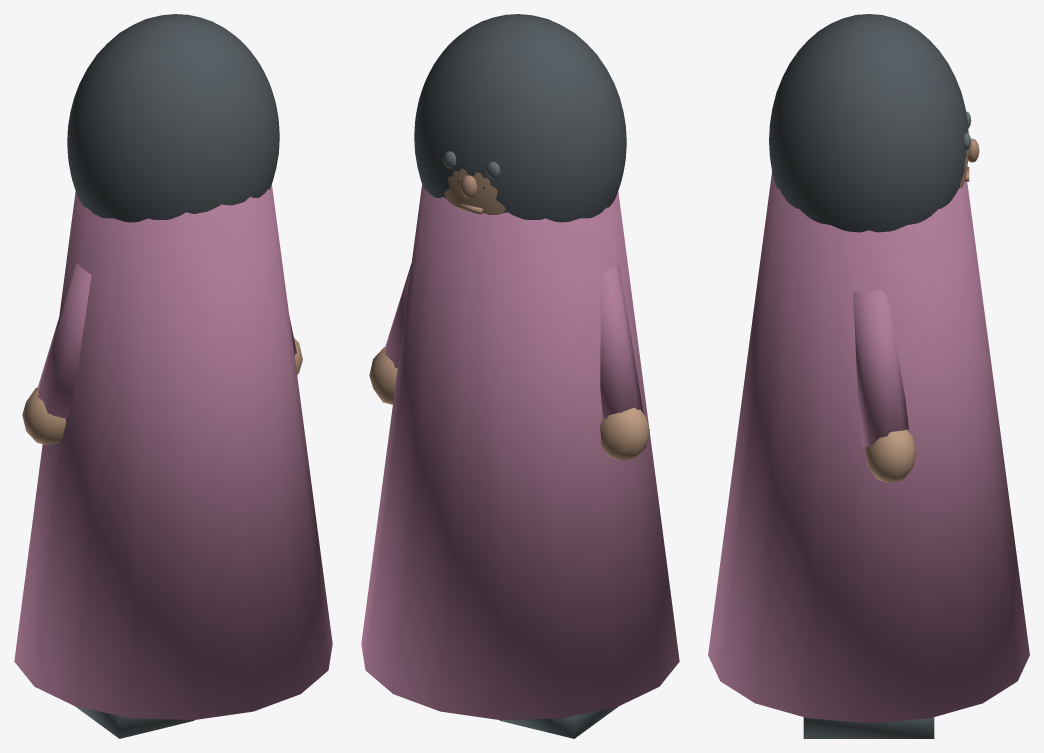
File: hijab_muslim_woman.glb
3 renders of one model, left to right at view 1: azimuth 30°, elevation 25°; view 2: azimuth 150°, elevation 25°; view 3: azimuth 270°, elevation 25°, orthographic.
Parts seen in each view (by area): view 1: woman_mat_00_long_abaya, woman_mat_01_hijab_head_cover, woman_mat_02_face, woman_mat_03_eye_-1; view 2: woman_mat_00_long_abaya, woman_mat_01_hijab_head_cover, woman_mat_02_face, woman_mat_03_eye_-1; view 3: woman_mat_00_long_abaya, woman_mat_01_hijab_head_cover, woman_mat_03_eye_-1, woman_mat_02_face.
Boxes of the visible parts, x1=… form: woman_mat_00_long_abaya: x1=14, y1=184, x2=332, y2=719; woman_mat_01_hijab_head_cover: x1=67, y1=14, x2=279, y2=222; woman_mat_02_face: x1=22, y1=338, x2=302, y2=444; woman_mat_03_eye_-1: x1=76, y1=706, x2=194, y2=738; woman_mat_00_long_abaya: x1=361, y1=184, x2=679, y2=719; woman_mat_01_hijab_head_cover: x1=414, y1=14, x2=626, y2=222; woman_mat_02_face: x1=369, y1=168, x2=649, y2=460; woman_mat_03_eye_-1: x1=443, y1=151, x2=617, y2=738; woman_mat_00_long_abaya: x1=708, y1=172, x2=1029, y2=723; woman_mat_01_hijab_head_cover: x1=769, y1=14, x2=968, y2=232; woman_mat_03_eye_-1: x1=803, y1=111, x2=971, y2=738; woman_mat_02_face: x1=864, y1=149, x2=968, y2=483.
Bounding box in the file's own units: 0.74 × 1.71 × 0.74.
